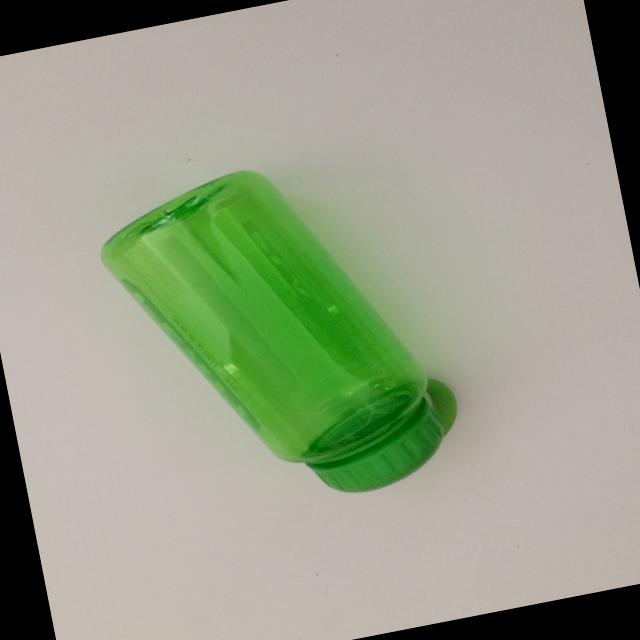Plastic: (59, 130, 522, 574)
